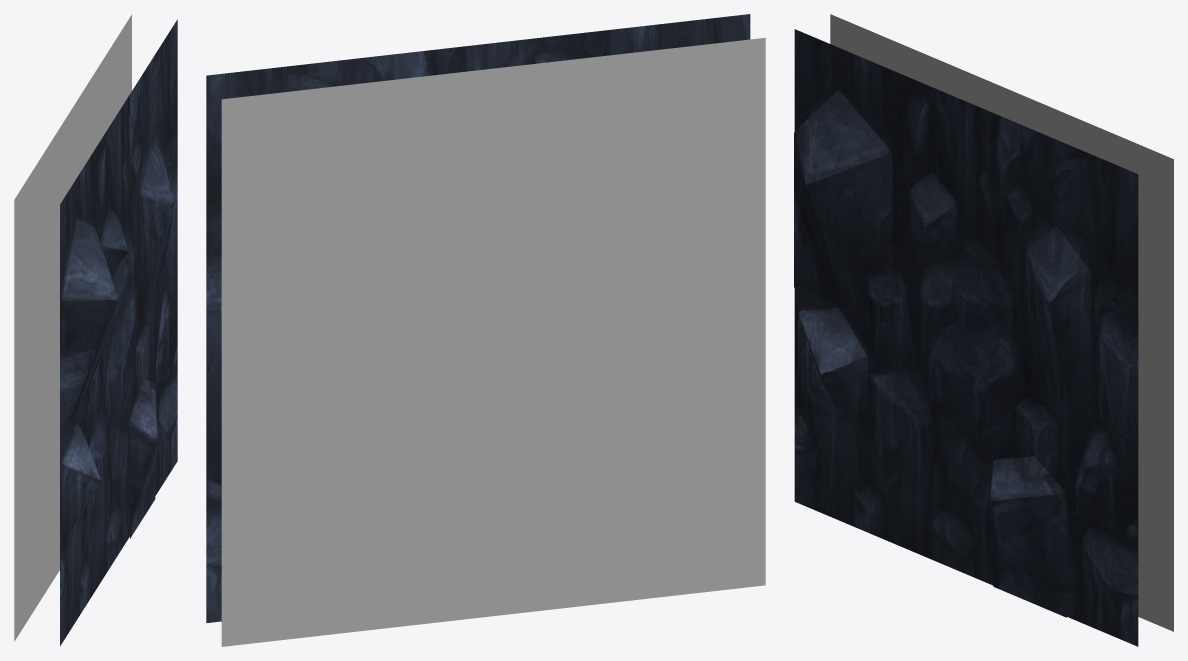
Rendered from mine_wall_diagonal_01.fbx.
3 views of the same model, side by side, from view 1: azimuth 30°, elevation 25°; view 2: azimuth 150°, elevation 25°; view 3: azimuth 270°, elevation 25° (orthographic). The views are drawn at different scales.
Visible parts, largest first — view 1: mine_wall_diagonal_01-0; view 2: mine_wall_diagonal_01-0; view 3: mine_wall_diagonal_01-0.
Boxes of the visible parts, x1,y1,x2,y2 form: mine_wall_diagonal_01-0: (14,14,177,646); mine_wall_diagonal_01-0: (206,14,765,646); mine_wall_diagonal_01-0: (794,14,1173,646).
Bounding box in the file's own units: 4 × 5.5 × 4.01.
